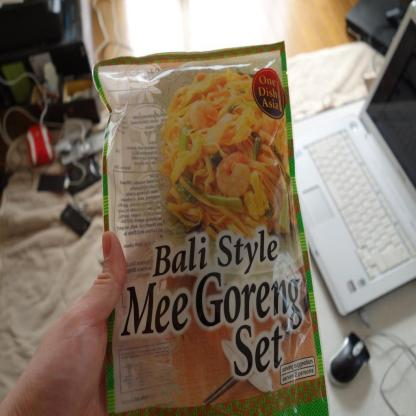board: (93, 40, 330, 416), (291, 0, 415, 316)
